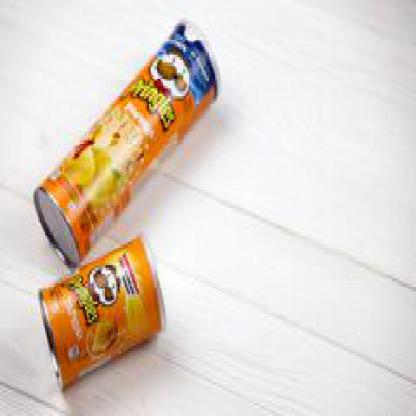potatochip: (34, 16, 223, 271), (41, 233, 168, 393)
